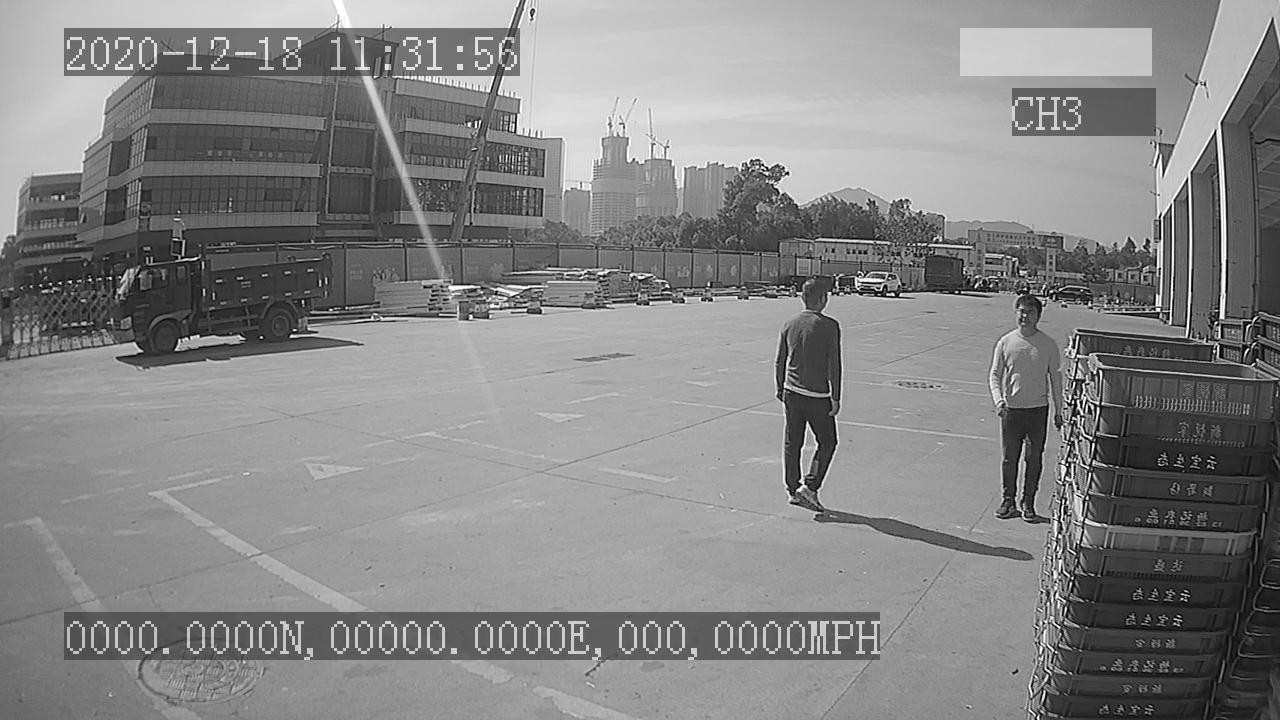person: (771, 273, 842, 508)
